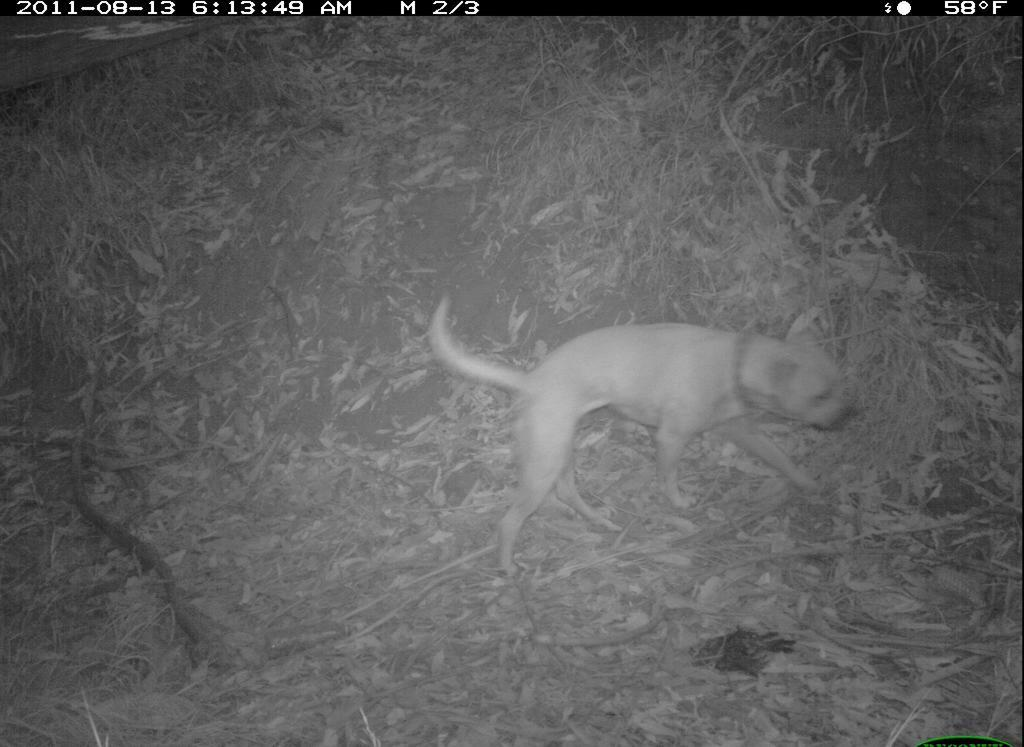dog: (431, 273, 891, 588)
